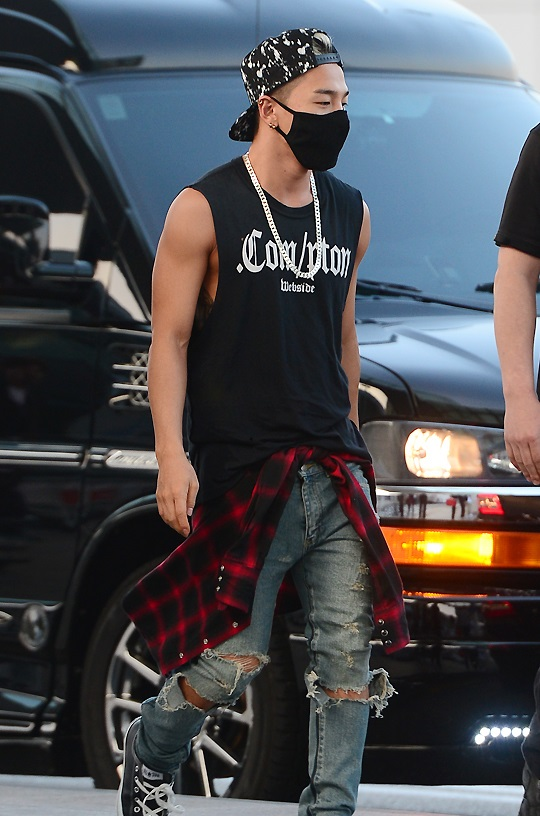face_mask: (279, 54, 348, 169)
